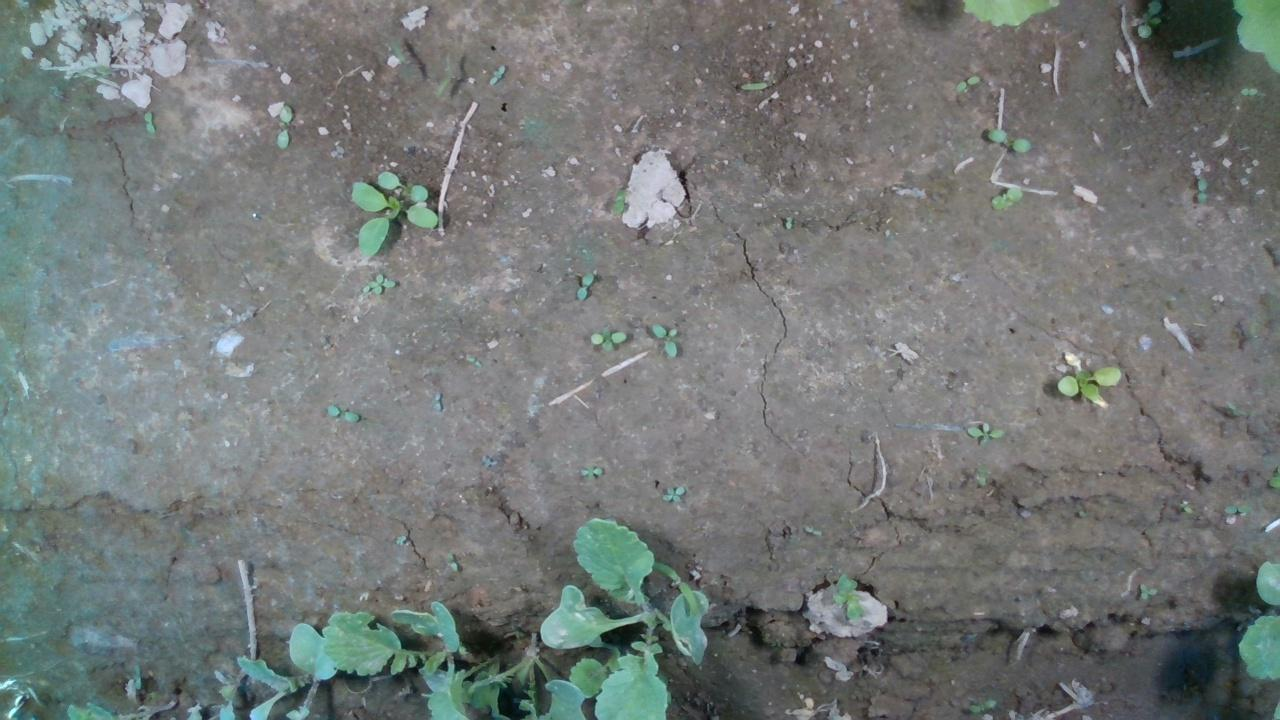weed: (1055, 364, 1121, 401), (984, 126, 1033, 154), (650, 322, 678, 357), (589, 325, 626, 351), (964, 423, 1005, 446), (989, 184, 1023, 211), (274, 102, 292, 148), (363, 272, 397, 295), (324, 403, 360, 421), (608, 186, 630, 215), (575, 270, 594, 301), (576, 461, 605, 478), (953, 75, 980, 92), (661, 484, 686, 502), (141, 108, 157, 133), (1136, 582, 1159, 599), (433, 388, 444, 412), (1223, 503, 1249, 512), (1175, 502, 1192, 513)
